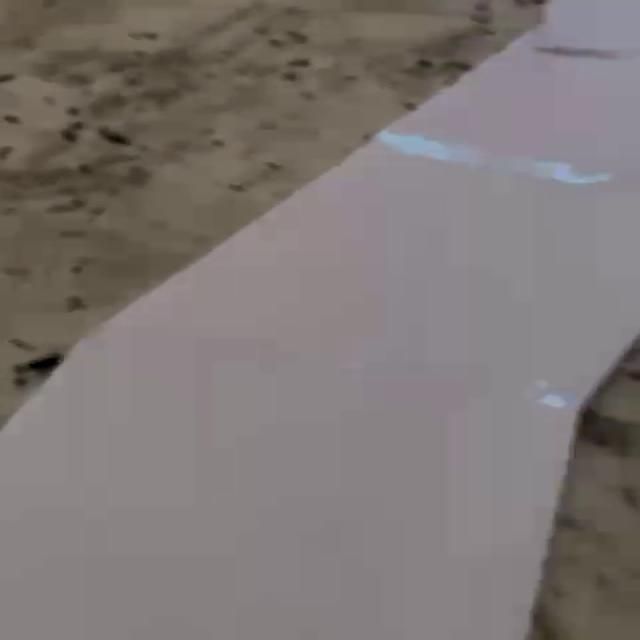road: (0, 0, 640, 640)
